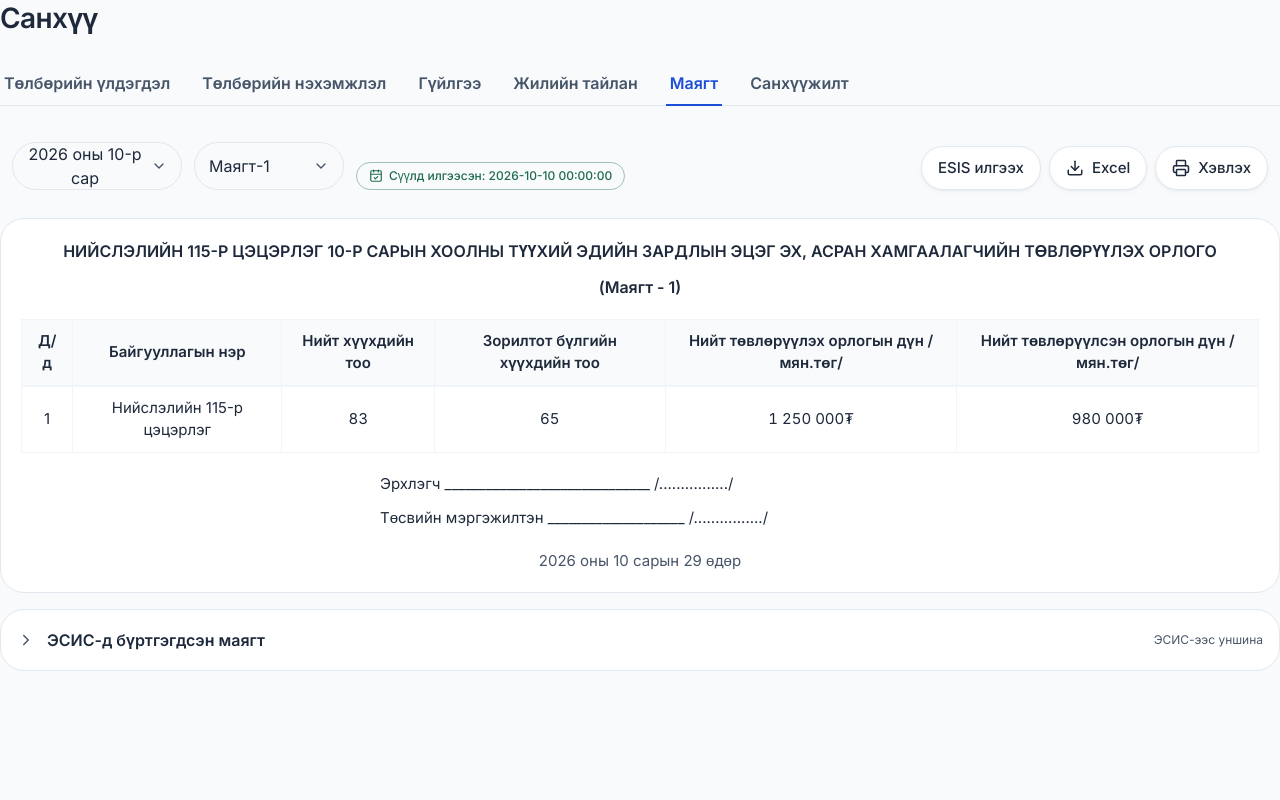
Санхүү — tabs › lays Маягт-1 out as the return and files it on «ESIS илгээх»
Expected: the text "1 250 000₮" is shown, [665, 386, 957, 452]
Expected: the heading "Нийслэлийн 115-р цэцэрлэг" is shown, [63, 241, 323, 261]
Click the button "ESIS илгээх" at point(981, 168), box [921, 146, 1041, 190]
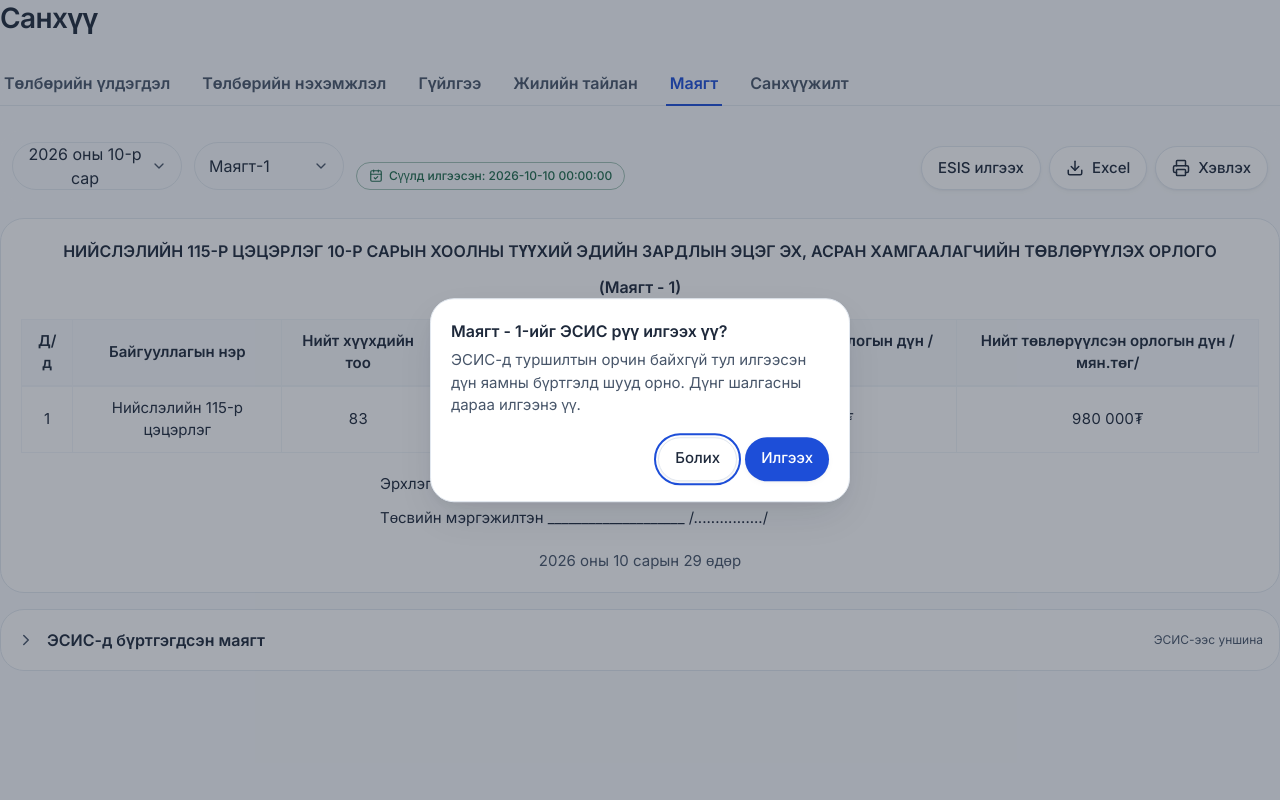
Click the button "Илгээх" at point(787, 459), box [745, 437, 829, 481]
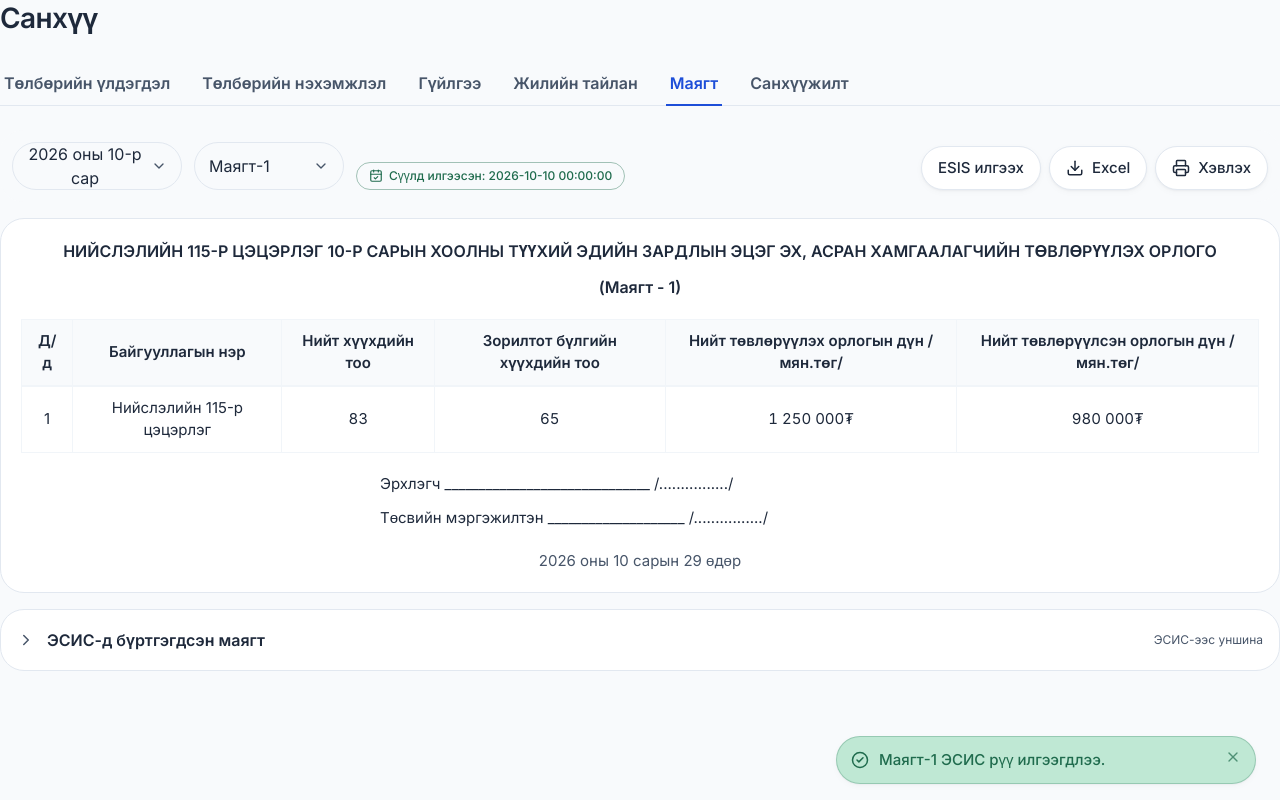
Expected: the text "Маягт-1 ЭСИС рүү илгээгдлээ." is shown, [879, 750, 1105, 768]
